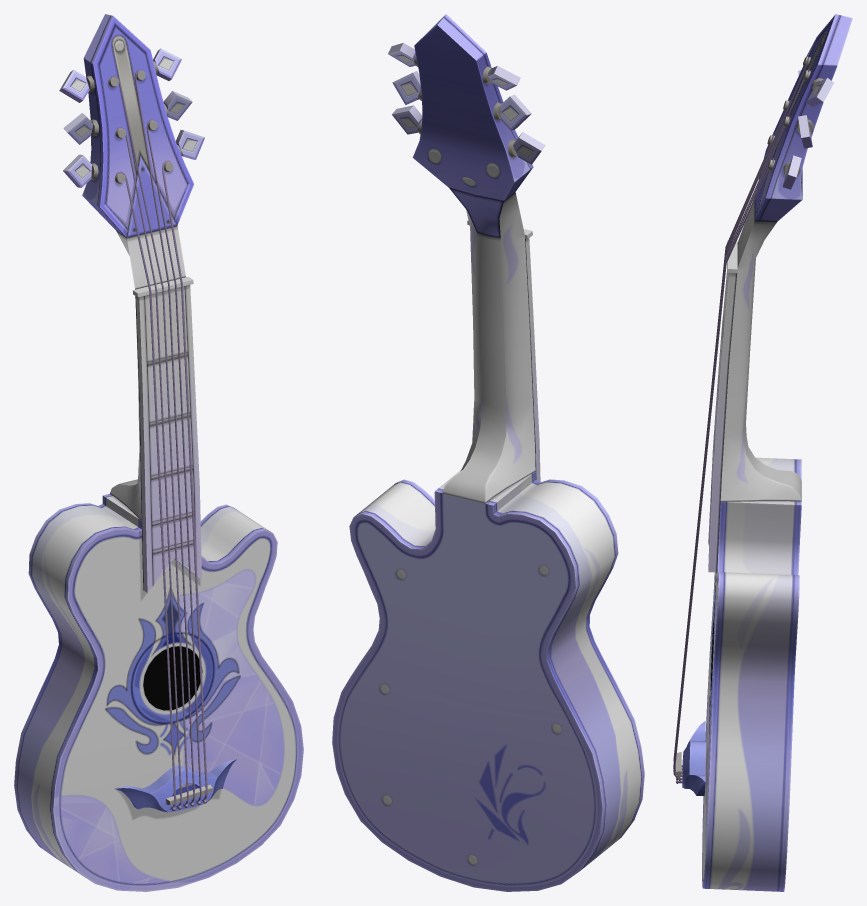
File: Lingering Euphonia.glb
The picture shows the model from 3 angles, left to right: view 1: azimuth 30°, elevation 25°; view 2: azimuth 150°, elevation 25°; view 3: azimuth 270°, elevation 25°; orthographic projection. The views are drawn at different scales.
Parts seen in each view (by area): view 1: AvatarObj_Widget_LQGuitar_01_Model; view 2: AvatarObj_Widget_LQGuitar_01_Model; view 3: AvatarObj_Widget_LQGuitar_01_Model.
Part boxes in pixels (left/top/right/bottom): AvatarObj_Widget_LQGuitar_01_Model: left=14, top=14, right=303, bottom=891; AvatarObj_Widget_LQGuitar_01_Model: left=332, top=14, right=644, bottom=891; AvatarObj_Widget_LQGuitar_01_Model: left=673, top=14, right=852, bottom=891.
Size of the model in its own units: 0.169 by 0.5335 by 0.1013.
Materials: 1 (1 with a texture image).
